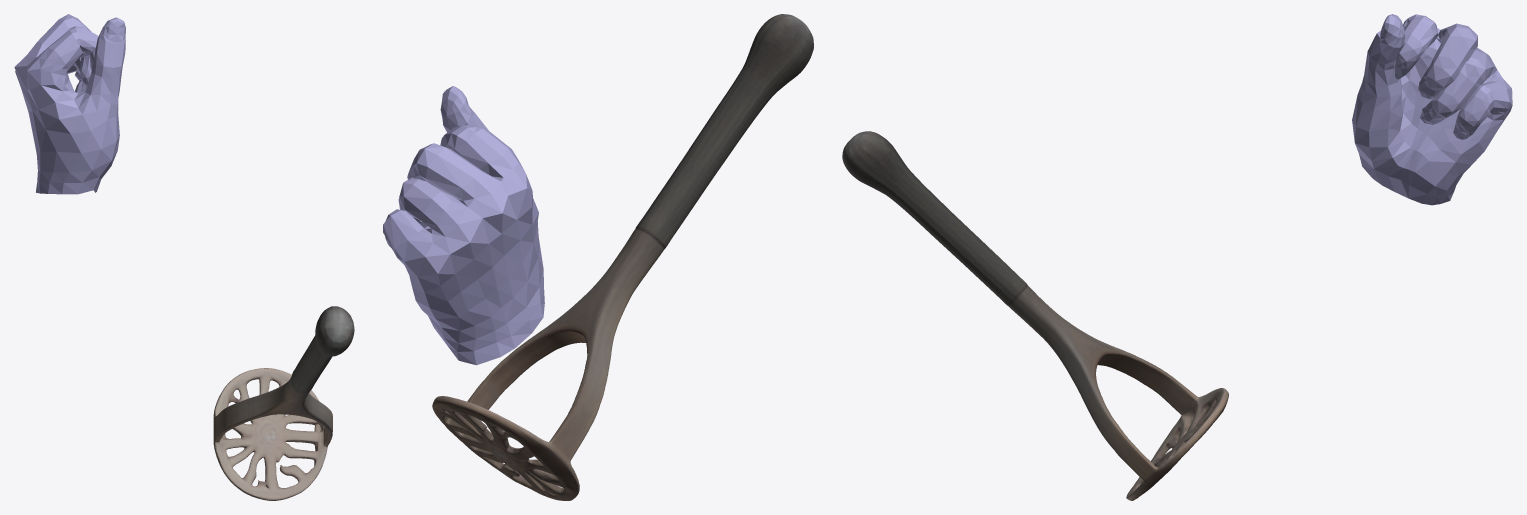
The model's file is frame_0043_source_000043_hand_object.glb.
3 views of the same model, side by side, from view 1: azimuth 30°, elevation 25°; view 2: azimuth 150°, elevation 25°; view 3: azimuth 270°, elevation 25° (orthographic). The views are drawn at different scales.
Parts seen in each view (by area): view 1: world; view 2: world; view 3: world.
Part boxes in pixels (x1=…): world: x1=14, y1=14, x2=354, y2=500; world: x1=383, y1=14, x2=813, y2=500; world: x1=842, y1=14, x2=1512, y2=500.
Bounding box in the file's own units: 0.1292 × 0.2779 × 0.3723.
